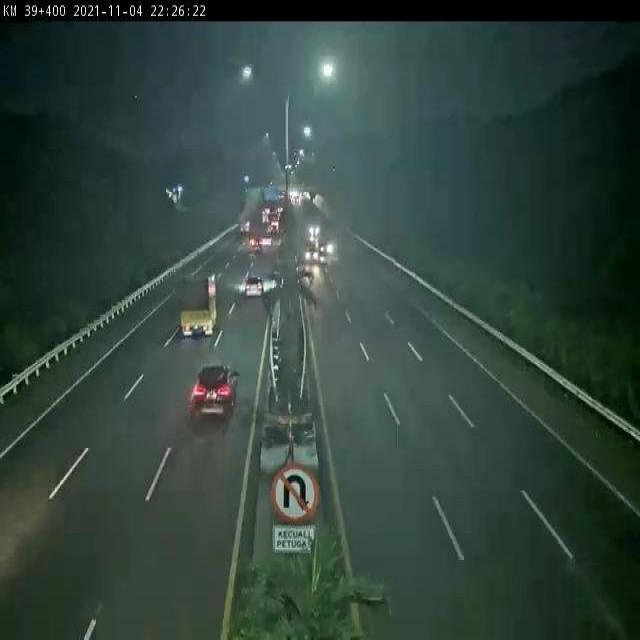car: (193, 364, 237, 419), (244, 275, 263, 297), (304, 245, 319, 264), (319, 237, 333, 255), (251, 237, 263, 251), (262, 233, 273, 247)
truck-m-: (179, 274, 219, 334)
